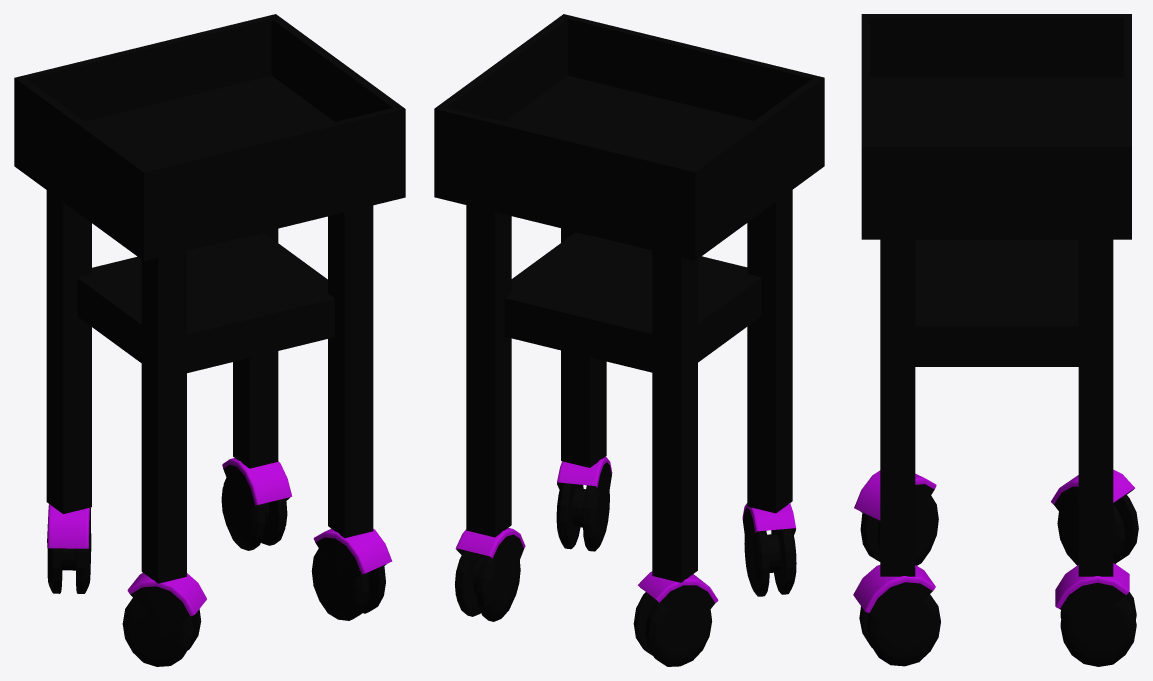
The model's file is medicaltray.fbx.
3 renders of one model, left to right at view 1: azimuth 30°, elevation 25°; view 2: azimuth 150°, elevation 25°; view 3: azimuth 270°, elevation 25°, orthographic. The views are drawn at different scales.
Parts seen in each view (by area): view 1: medical_tray; view 2: medical_tray; view 3: medical_tray.
Part boxes in pixels (x1=…): medical_tray: x1=14, y1=14, x2=405, y2=666; medical_tray: x1=434, y1=14, x2=824, y2=666; medical_tray: x1=853, y1=14, x2=1138, y2=666.
Bounding box in the file's own units: 0.8175 × 1.53 × 0.7421.
